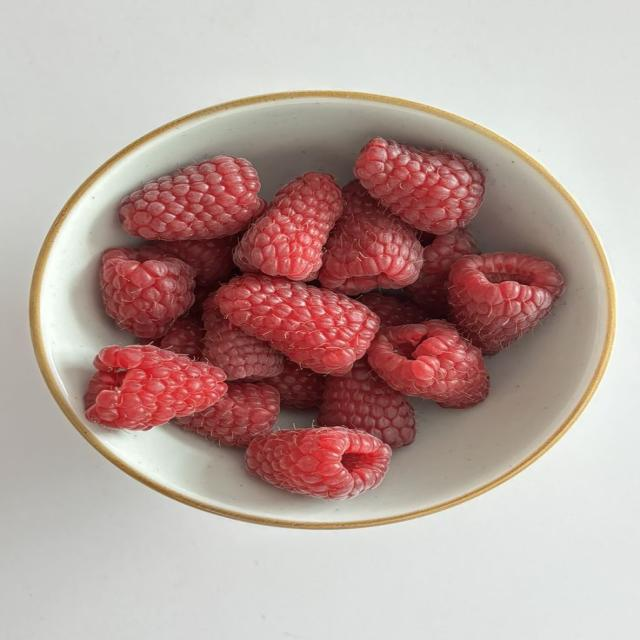raspberry: (214, 275, 379, 375), (354, 138, 484, 234), (120, 156, 261, 240), (85, 346, 226, 429), (319, 181, 422, 294), (234, 173, 342, 280), (449, 253, 563, 354), (368, 320, 488, 408), (246, 427, 391, 499), (100, 247, 194, 338), (318, 361, 415, 446), (202, 297, 283, 380), (175, 383, 279, 446), (407, 229, 478, 317), (156, 237, 238, 286), (264, 359, 325, 409), (358, 293, 426, 328), (154, 316, 204, 359), (190, 284, 219, 317)
